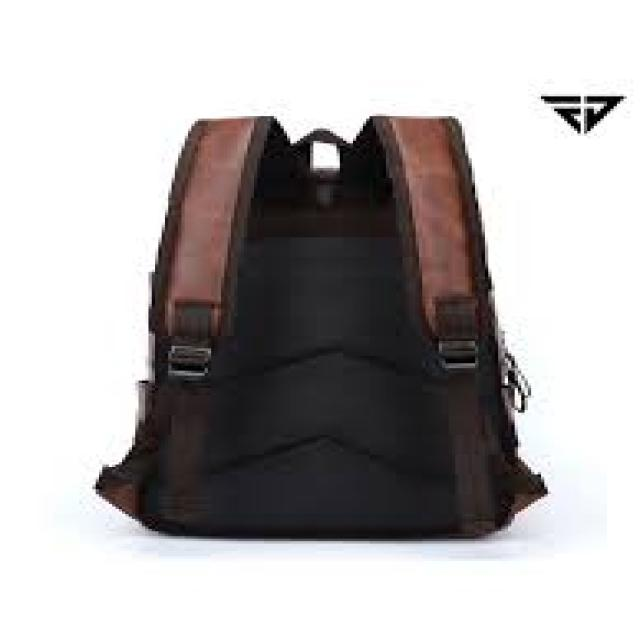backpack: (93, 112, 549, 540)
